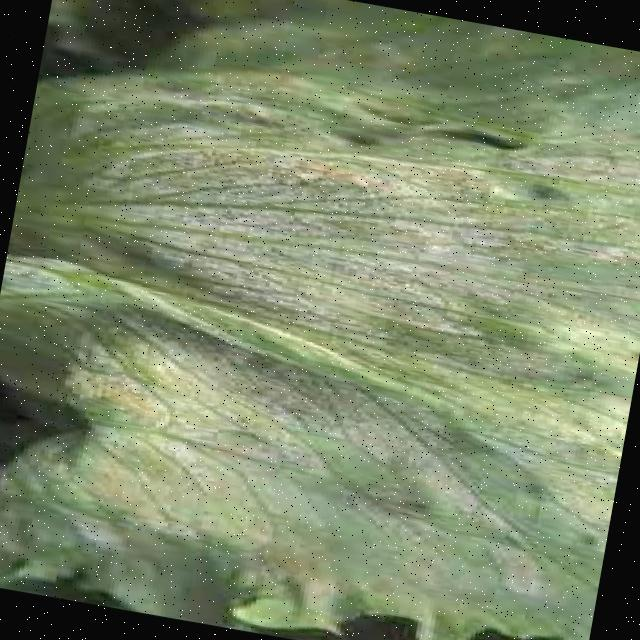Downy_mildew_on_lettuce: (93, 77, 640, 576)
